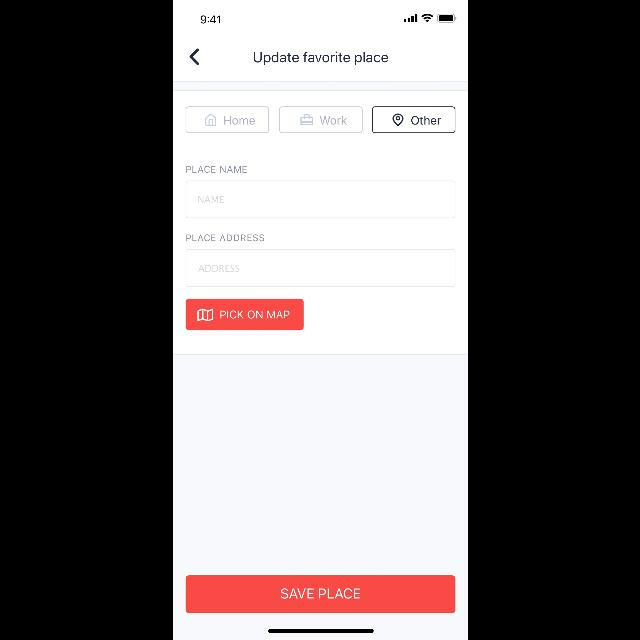icon: (190, 49, 198, 66)
input: (185, 181, 455, 219), (185, 249, 455, 287)
text: (253, 52, 387, 66), (186, 234, 264, 242), (186, 165, 246, 172), (198, 266, 238, 272), (197, 196, 223, 204)
textbutton: (185, 575, 455, 613), (185, 300, 303, 330), (278, 106, 362, 134), (185, 106, 268, 134), (372, 106, 454, 134)
uppertaskbar: (200, 14, 456, 24)
